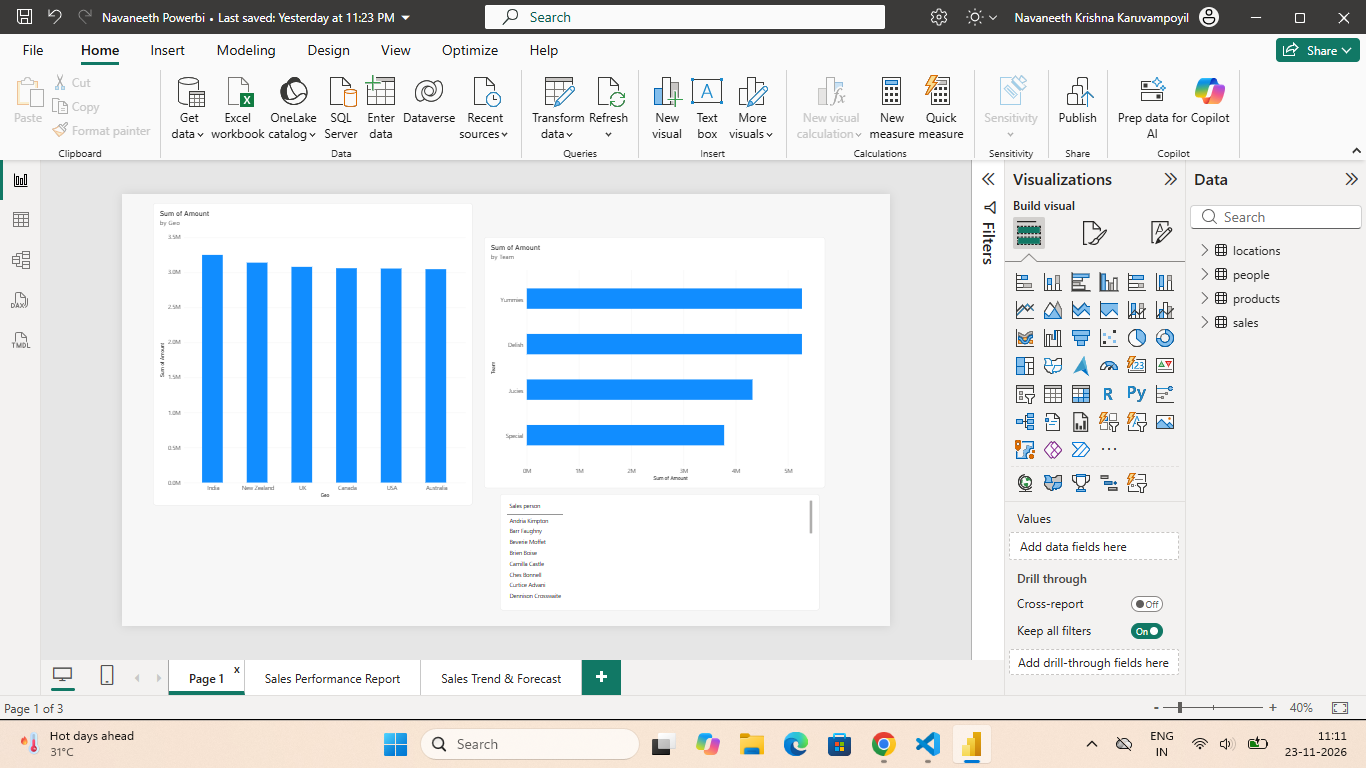

The page's visual inventory and layout, read from the dashboard file:
{"tool":"powerbi","page":{"name":"Page 1","canvas":[1920,1080],"ordinal":0},"visuals":[{"type":"columnChart","fields":{"Category":["locations.Geo"],"Y":["Sum(sales.Amount)"]},"box":[78.1,22.7,798.7,755.9],"z":0},{"type":"clusteredBarChart","fields":{"Category":["people.Team"],"Y":["Sum(sales.Amount)"]},"box":[905,108.3,853.3,628.3],"z":1000},{"type":"tableEx","fields":{"Values":["people.Sales person"]},"box":[945,750,799,291],"z":2000}]}

Visuals, with their boxes on the page's 1920x1080 design canvas (x1, y1, x2, y2). These are canvas units, not pixel positions in the 1366x768 screenshot, which may show the page scaled, cropped or inside an application window:
columnChart - locations.Geo x Sum(sales.Amount): <bbox>78, 23, 877, 779</bbox>
clusteredBarChart - people.Team x Sum(sales.Amount): <bbox>905, 108, 1758, 737</bbox>
tableEx - people.Sales person: <bbox>945, 750, 1744, 1041</bbox>
